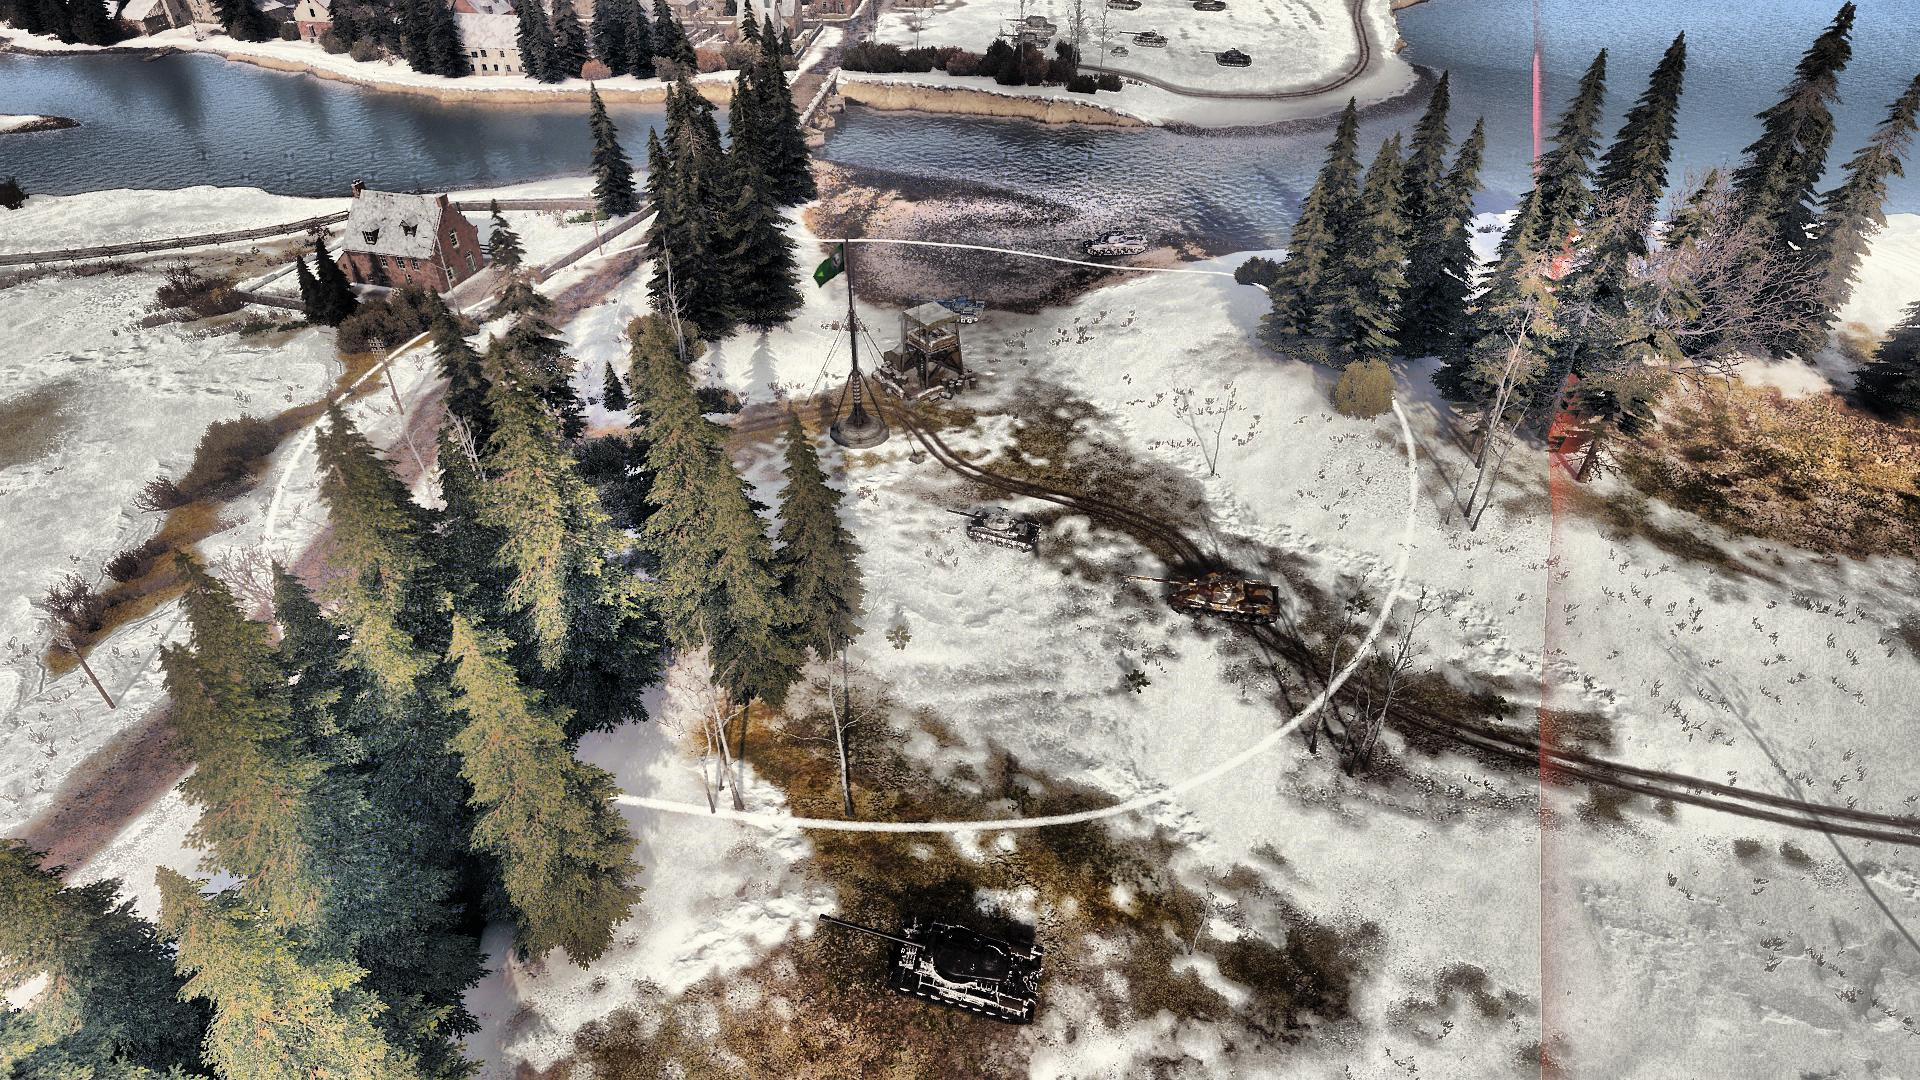military-vehicle: (816, 911, 1047, 1027), (1133, 572, 1280, 624), (945, 505, 1043, 551), (1054, 227, 1149, 257), (898, 293, 985, 323)
